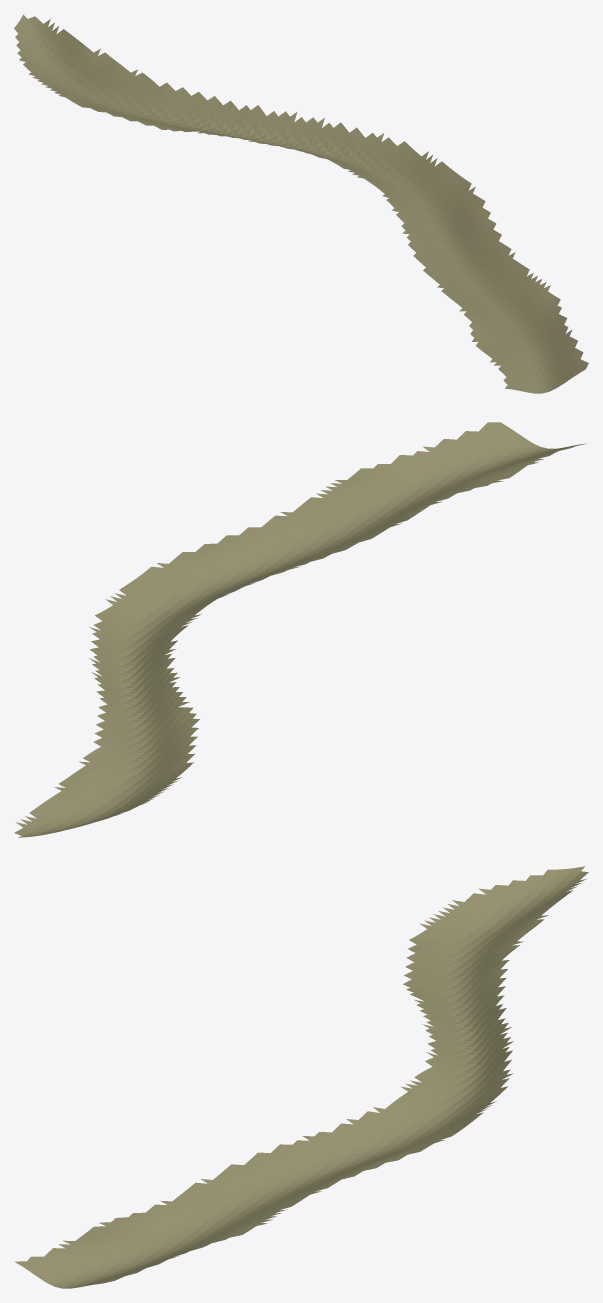
The model's file is terrain--river-bank.glb.
3 views of the same model, one above another, from view 1: azimuth 30°, elevation 25°; view 2: azimuth 150°, elevation 25°; view 3: azimuth 330°, elevation 25° (orthographic). The views are drawn at different scales.
Visible parts, largest first — view 1: terrain; view 2: terrain; view 3: terrain.
Boxes of the visible parts, x1,y1,x2,y2 form: terrain: (14,14,588,393); terrain: (14,422,586,837); terrain: (14,866,588,1288).
Size of the model in its own units: 33.75 by 2.51 by 133.
